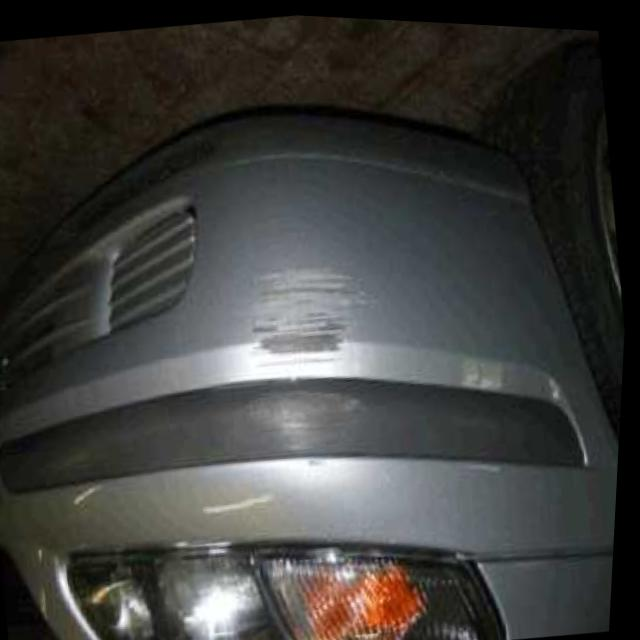Scratch: (249, 256, 372, 362)
